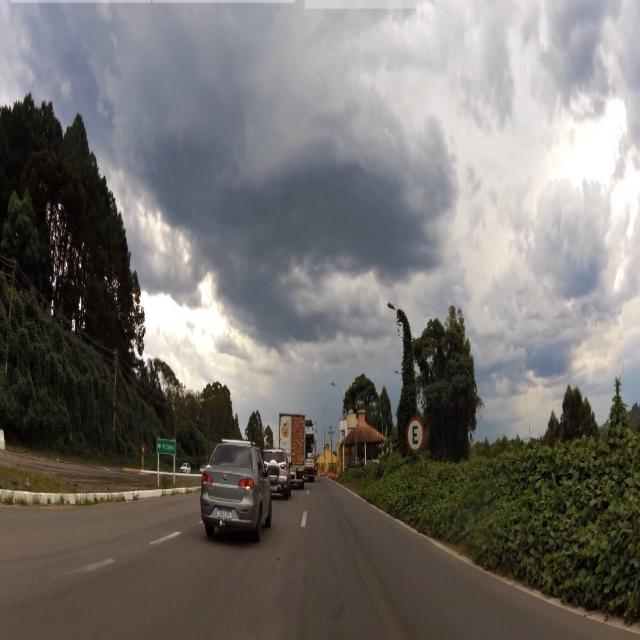R-6b: (407, 418, 424, 451)
